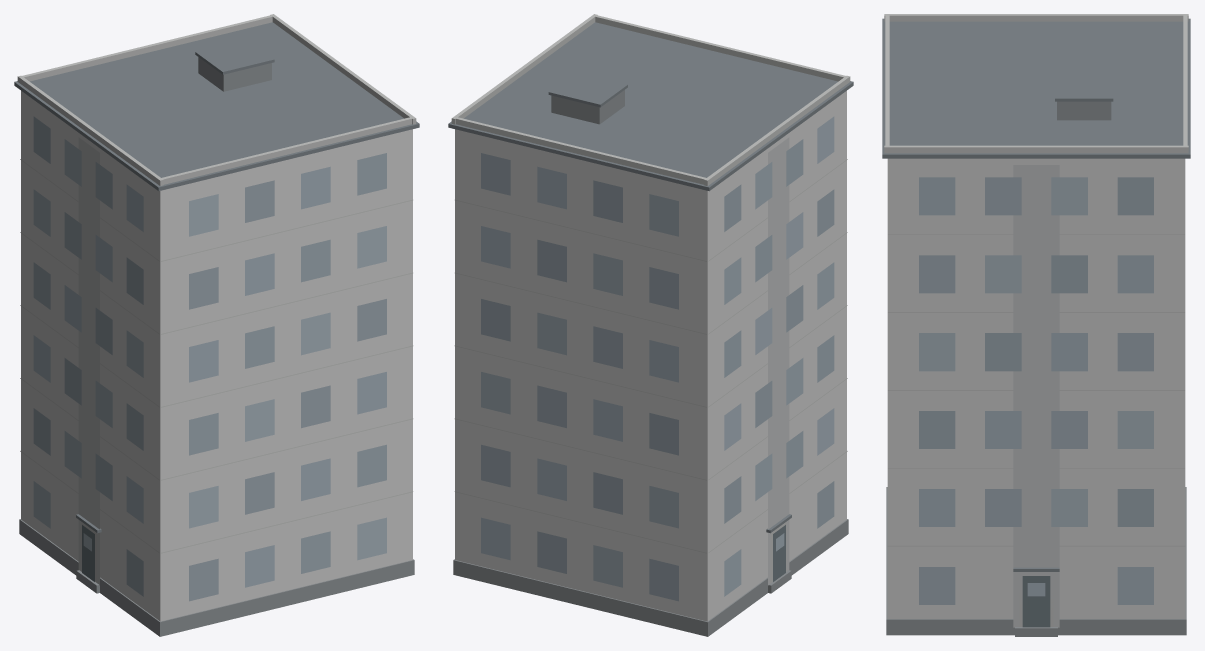
File: block_6.glb
The picture shows the model from 3 angles, left to right: view 1: azimuth 30°, elevation 25°; view 2: azimuth 150°, elevation 25°; view 3: azimuth 270°, elevation 25°; orthographic projection. The views are drawn at different scales.
Parts seen in each view (by area): view 1: block_6; view 2: block_6; view 3: block_6.
Boxes of the visible parts, x1,y1,x2,y2 form: block_6: (14, 14, 419, 636); block_6: (448, 14, 853, 636); block_6: (882, 14, 1190, 636).
Size of the model in its own units: 11.9 by 20.57 by 11.4.
